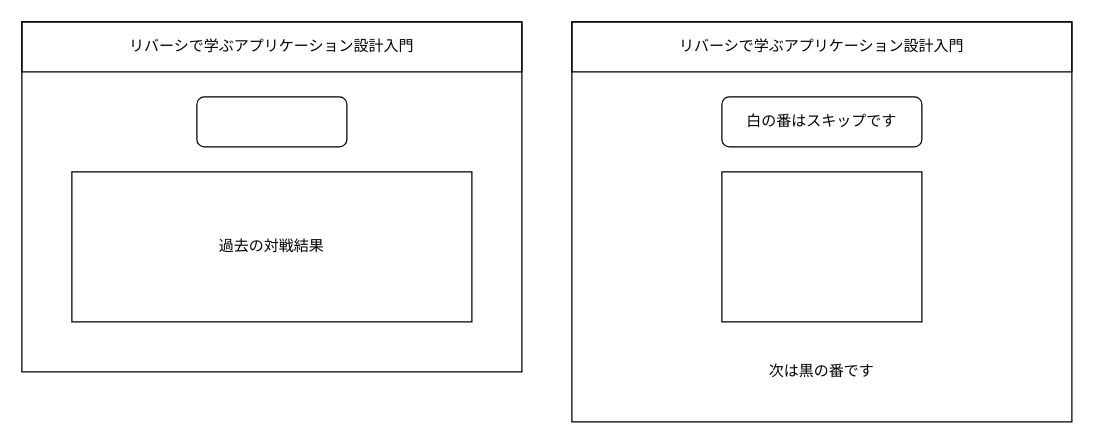
Some shapes in this 1094 by 444 pixel diagram are drawn without their labels. Each missing label, with the box of its shape:
対戦する: (196, 96, 347, 147)
盤面: (721, 171, 922, 322)
